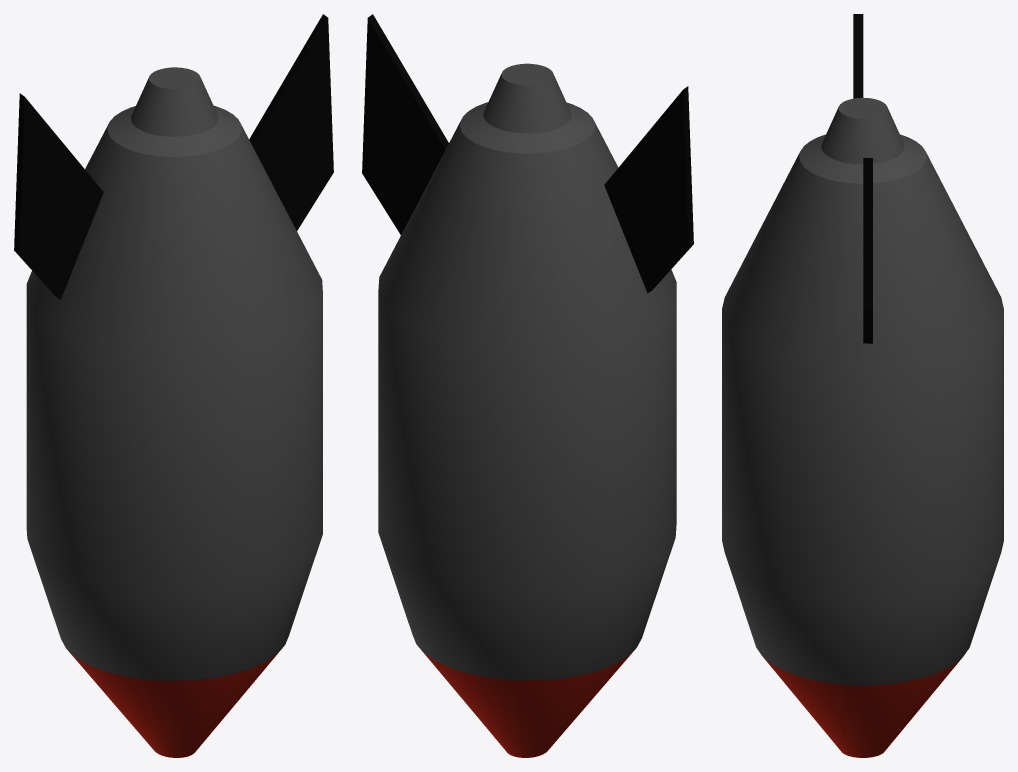
File: Bombe.fbx
3 renders of one model, left to right at view 1: azimuth 30°, elevation 25°; view 2: azimuth 150°, elevation 25°; view 3: azimuth 270°, elevation 25°, orthographic. The views are drawn at different scales.
Parts seen in each view (by area): view 1: Bombe; view 2: Bombe; view 3: Bombe.
Part boxes in pixels (x1,y1,x2,y2): Bombe: (14, 14, 333, 757); Bombe: (362, 14, 693, 757); Bombe: (722, 14, 1003, 757).
Size of the model in its own units: 0.5398 by 1.12 by 0.4306.
